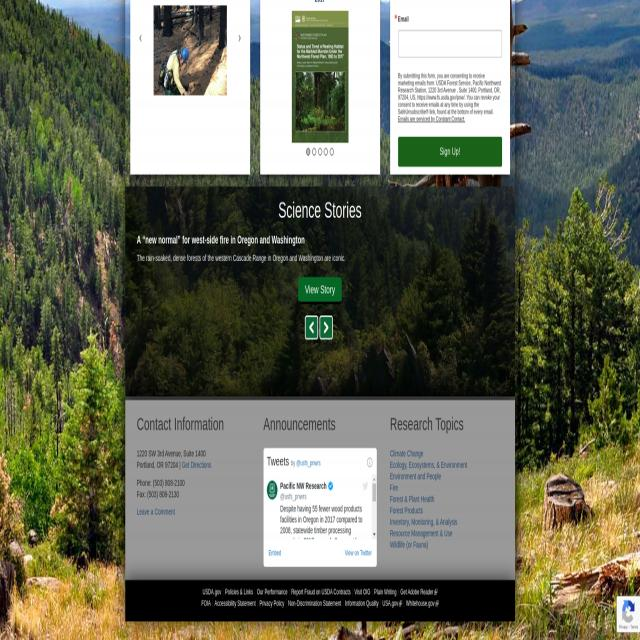button: (292, 11, 348, 143), (153, 6, 227, 96), (398, 137, 502, 166), (298, 277, 342, 304), (320, 316, 333, 339), (305, 316, 318, 339), (136, 26, 146, 53), (234, 27, 244, 51), (266, 480, 278, 500), (372, 484, 376, 502), (367, 457, 373, 468), (318, 147, 323, 157), (372, 474, 377, 484), (372, 530, 377, 539), (324, 147, 328, 156), (312, 147, 316, 156), (306, 148, 310, 156), (330, 148, 334, 156)
field: (398, 29, 502, 58)
